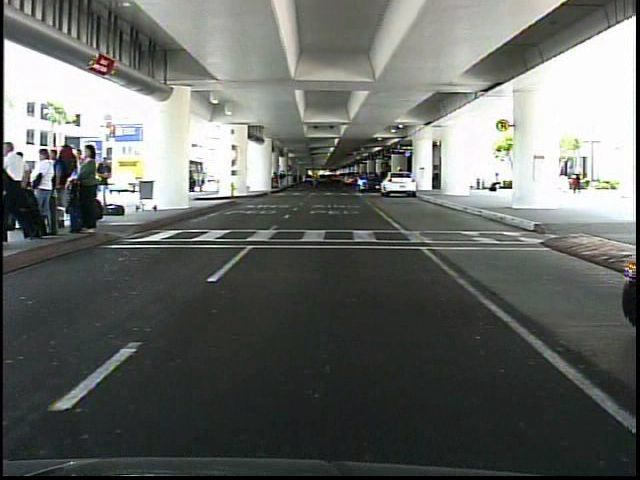person: (565, 160, 588, 199), (487, 167, 504, 199)
